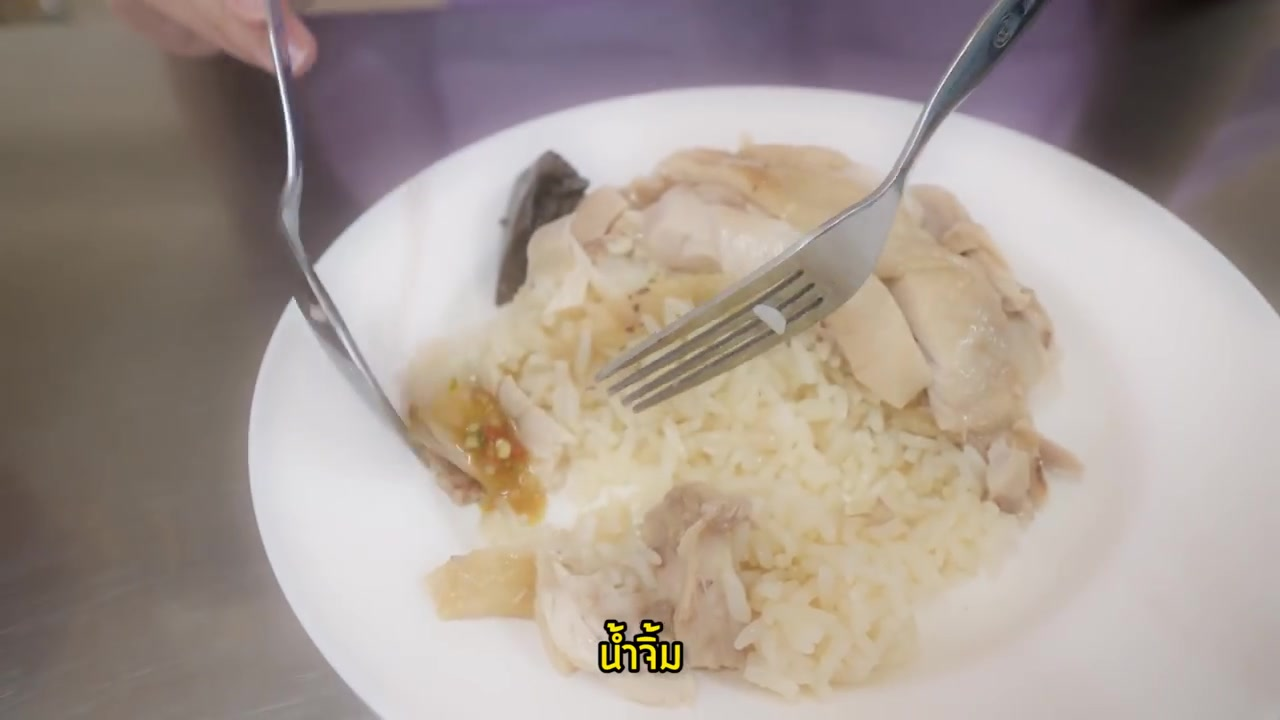text-label: (593, 617, 697, 679)
